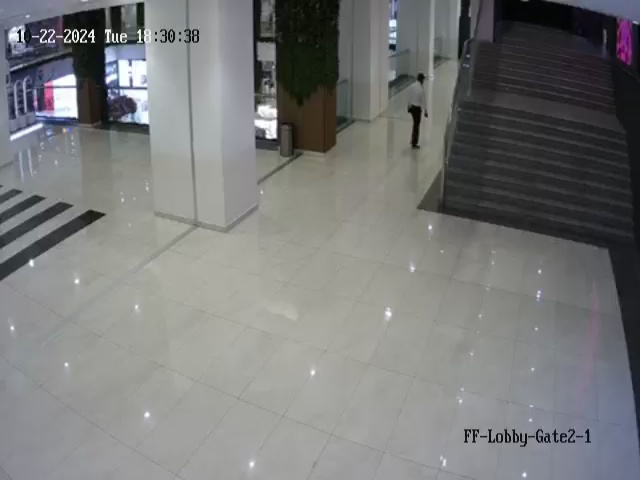male: (407, 73, 428, 150)
